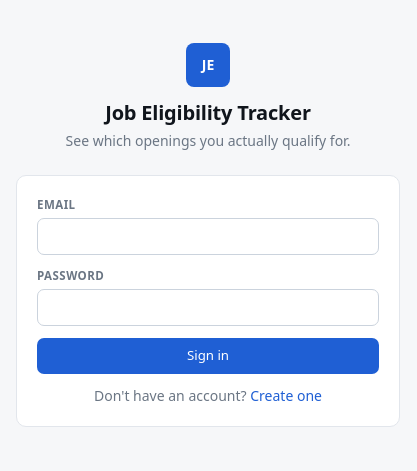
Authentication › shows the server message when login fails
Type "wrong@example.com" into the field labelled "Email" at (208,236), box [37,218,379,255]
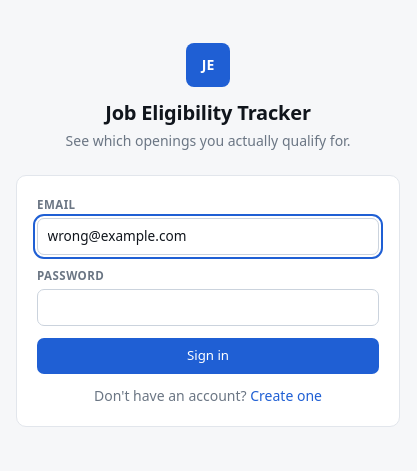
Type "nope" into the password field labelled "Password" at (208,307), box [37,289,379,326]
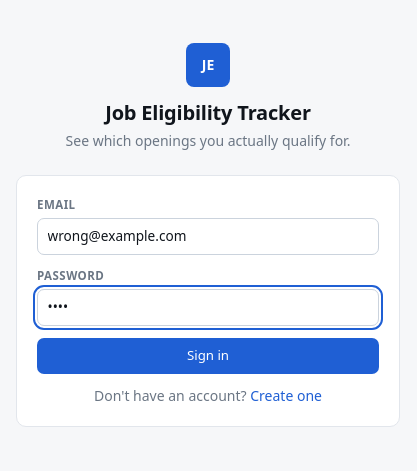
Click the button "Sign in" at (208,356), box [37,338,379,374]
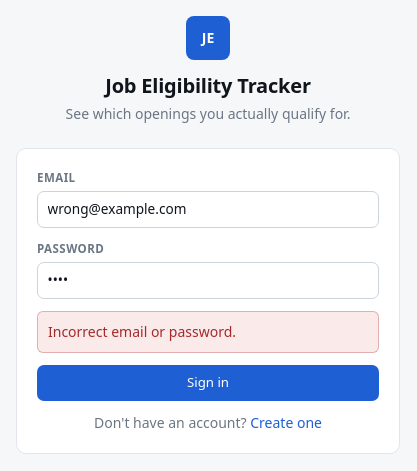
Expected: the message reads "Incorrect email or password.", [48,322,236,341]
